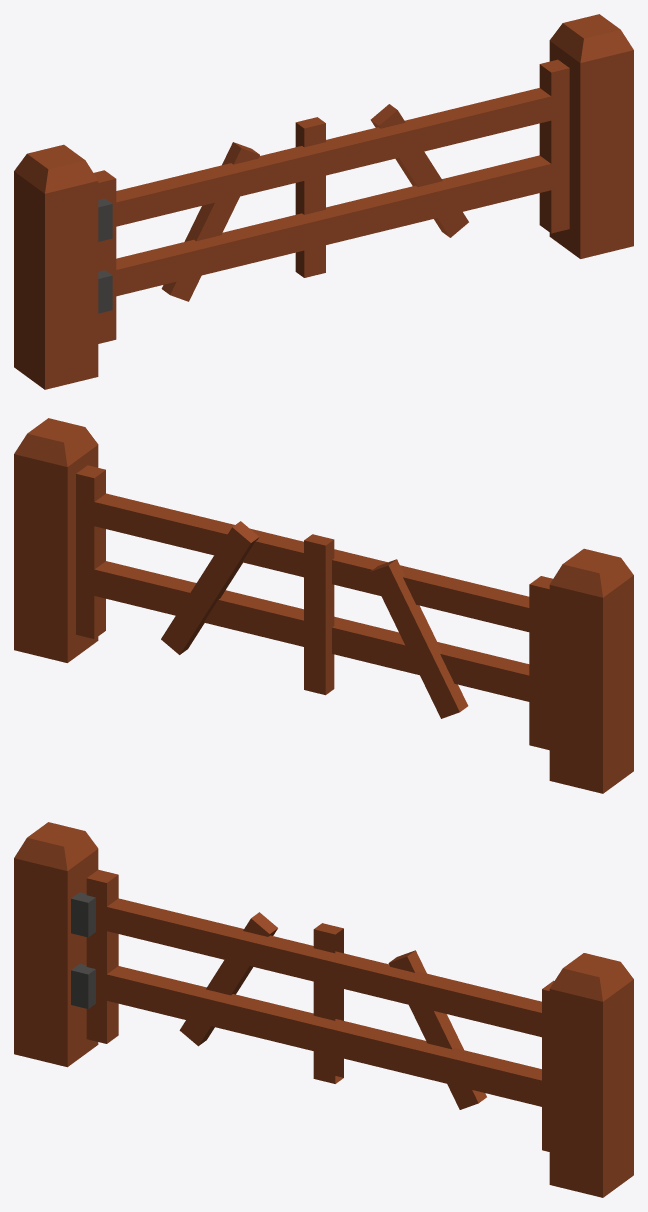
The model's file is fence2.fbx.
The picture shows the model from 3 angles, top to bottom: view 1: azimuth 30°, elevation 25°; view 2: azimuth 150°, elevation 25°; view 3: azimuth 330°, elevation 25°; orthographic projection.
Visible parts, largest first — view 1: Gate, Cube.001; view 2: Gate; view 3: Gate, Cube.001.
Part boxes in pixels (x1,y1,x2,y2): Gate: (14,14,633,389); Cube.001: (98,198,112,313); Gate: (14,418,633,793); Gate: (14,822,633,1197); Cube.001: (71,892,95,1008).
Size of the model in its own units: 2200 by 768 by 200.
